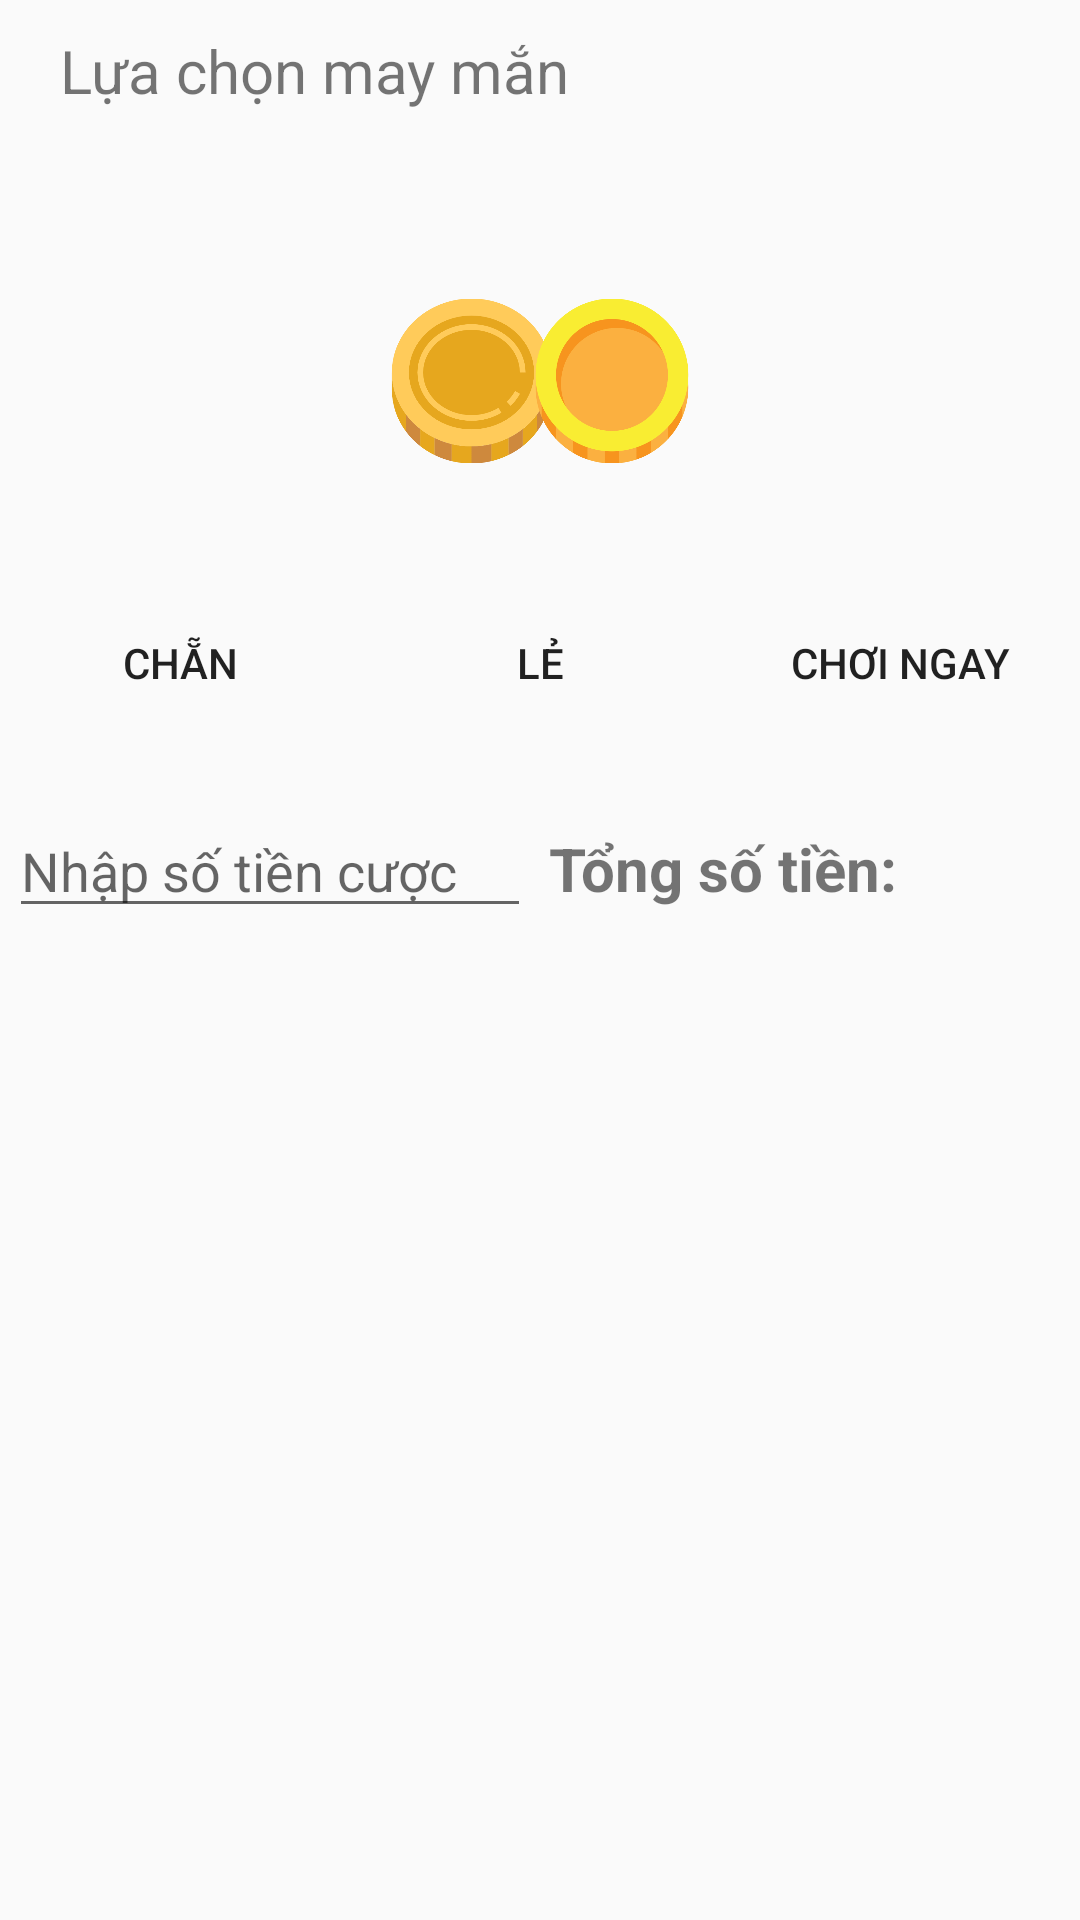

Icons on this 1080*1920 Android screen, each with the point to tap as (x,y):
heads tails: (540,381)
